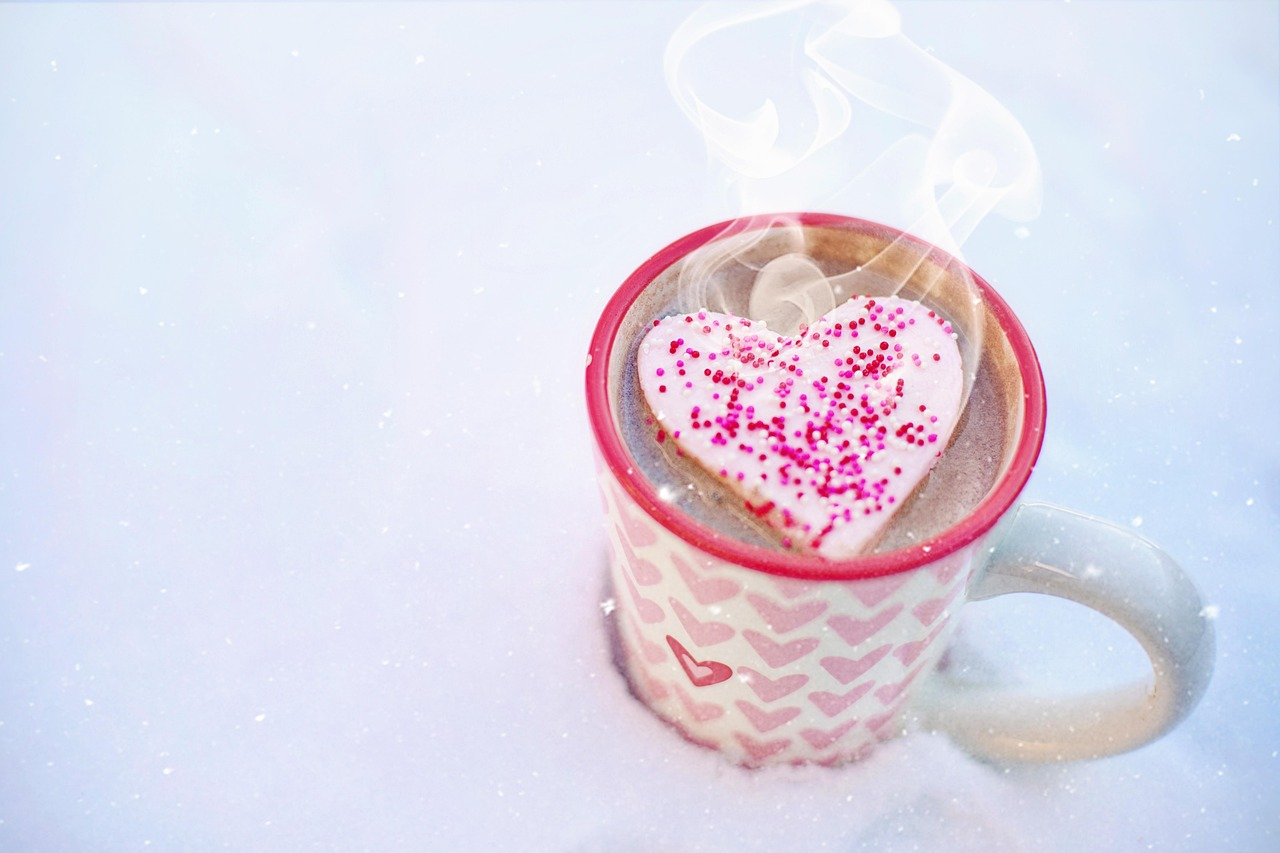mug: (557, 208, 1247, 823)
